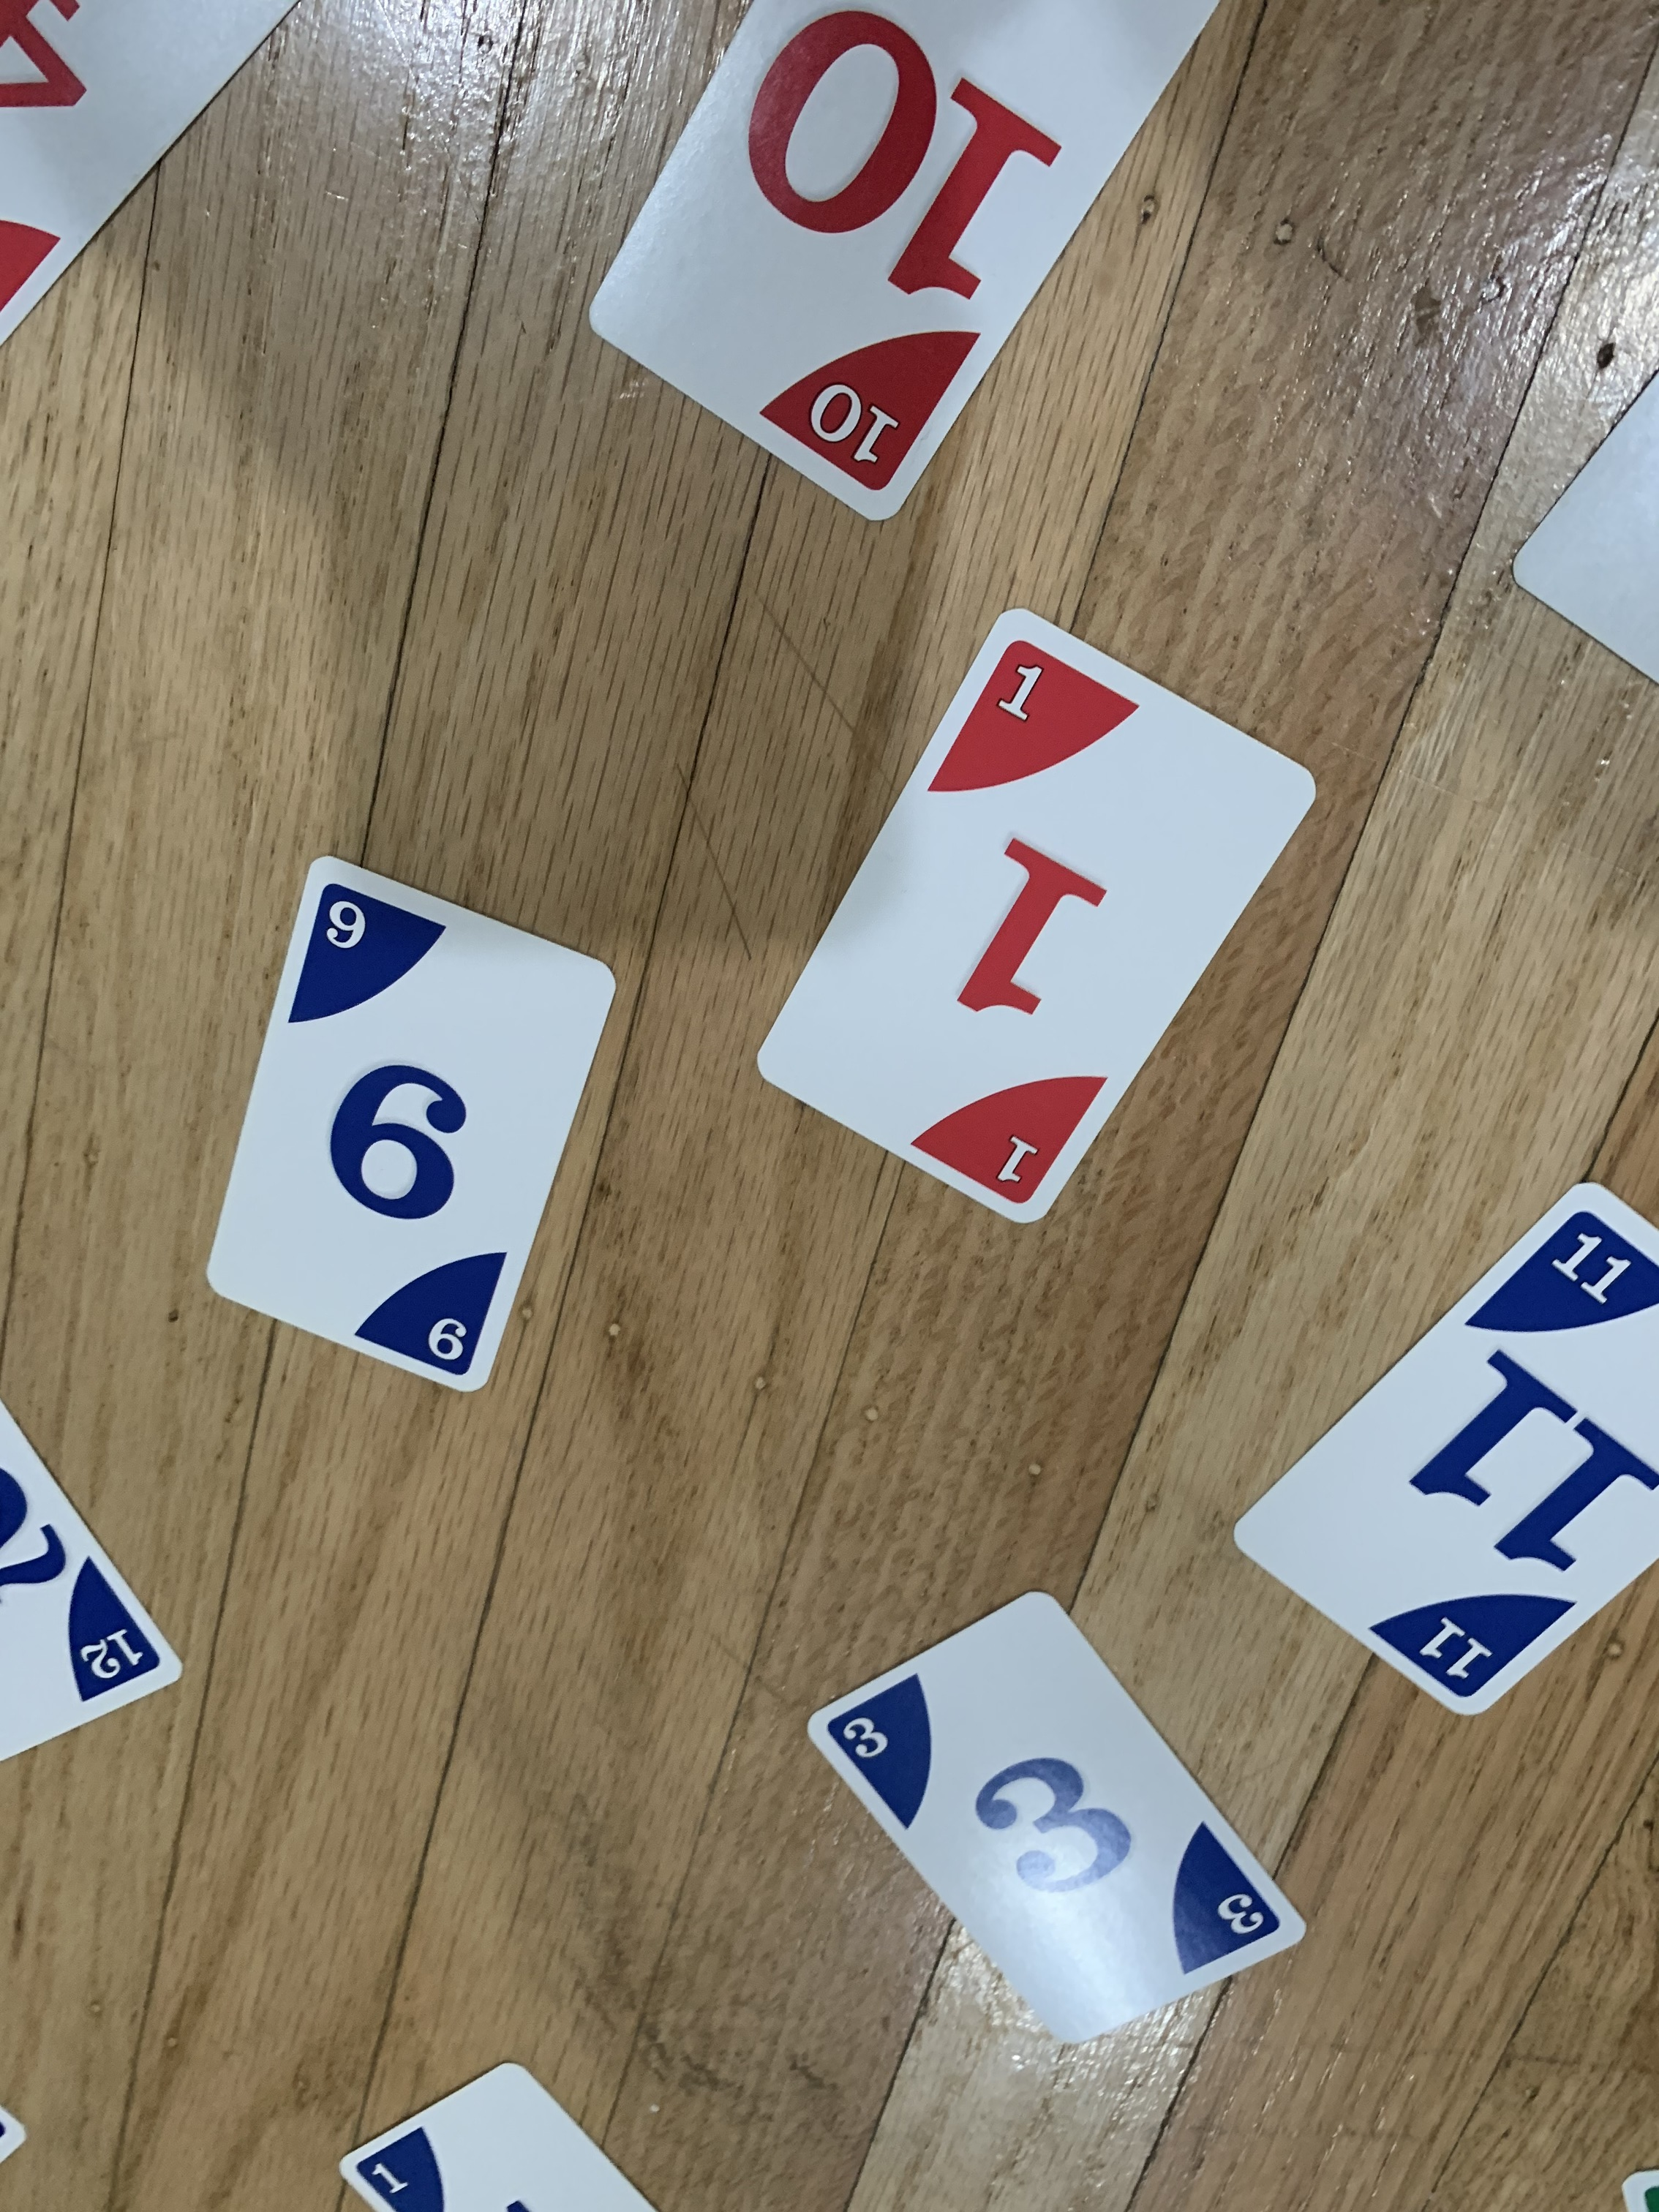six: (192, 855, 601, 1418)
three: (793, 1581, 1312, 2060)
